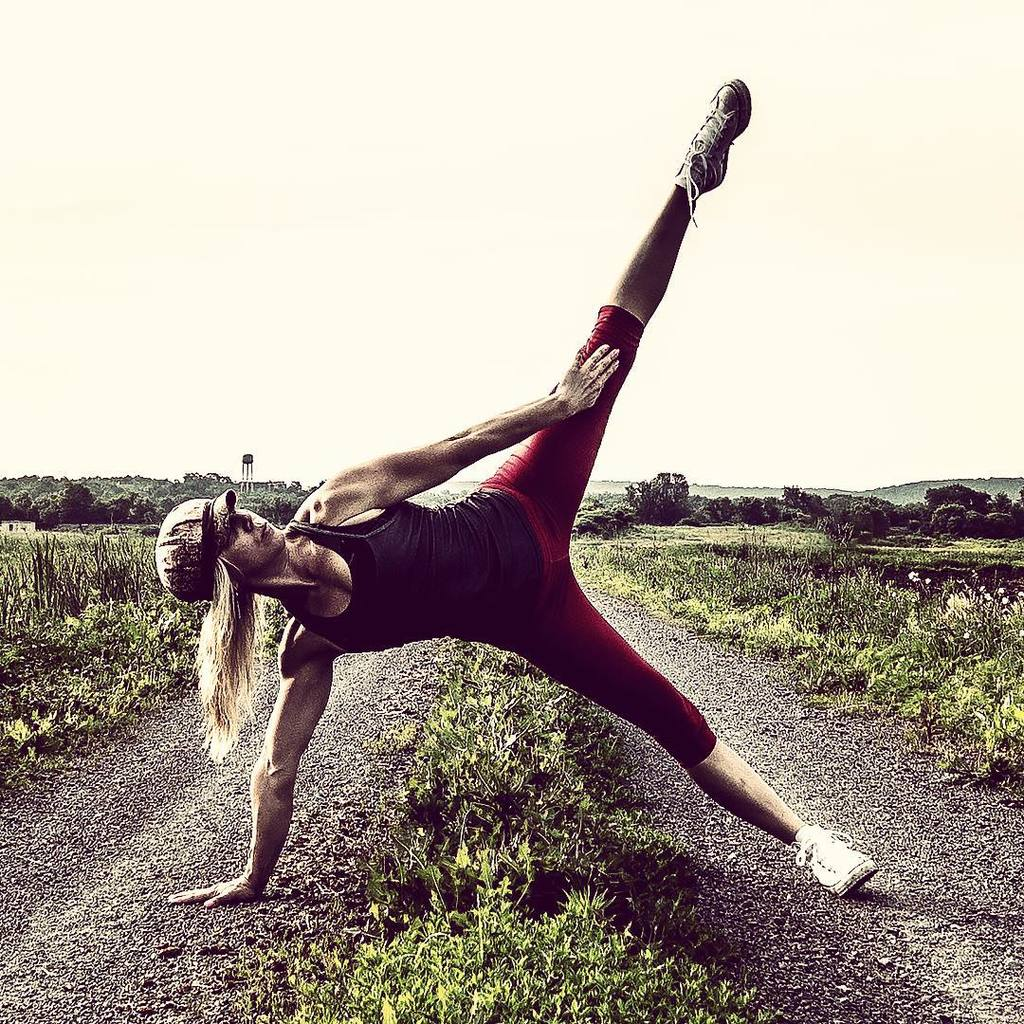Human_hand: (557, 343, 621, 416), (167, 880, 259, 909)
